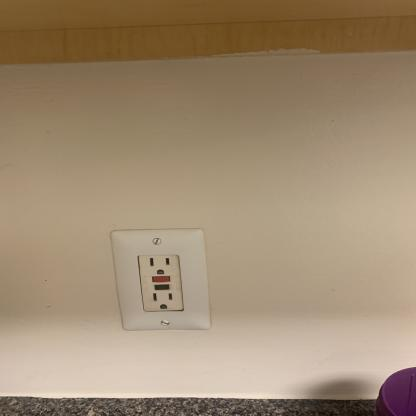OUTLET: (112, 230, 212, 330)
